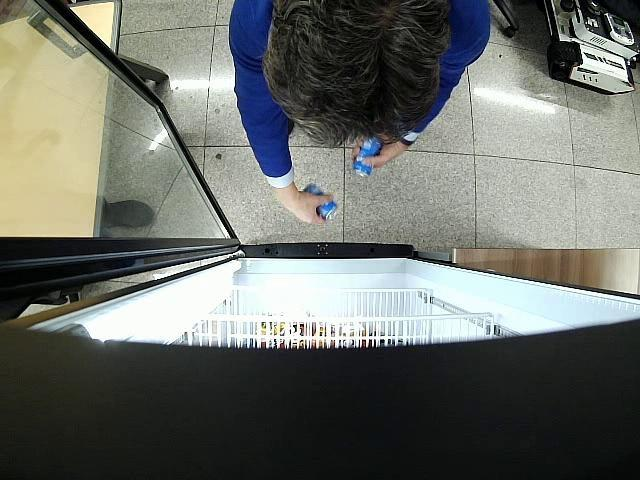15_letsbe: (303, 184, 338, 220), (353, 137, 382, 176)
